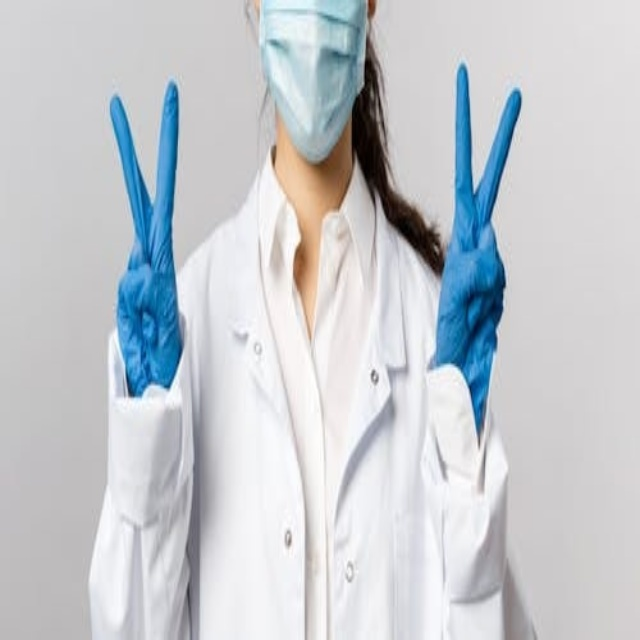Guantes: (431, 59, 520, 444), (109, 79, 184, 398)
Mascara: (259, 0, 368, 163)
